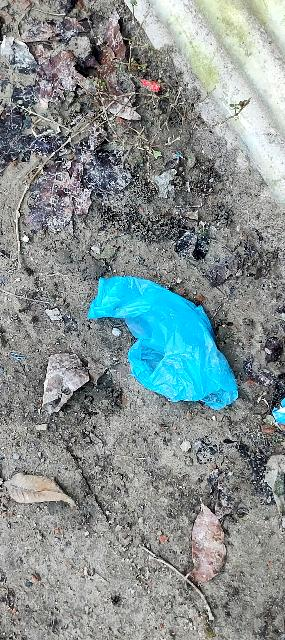polythene: (53, 239, 285, 459)
